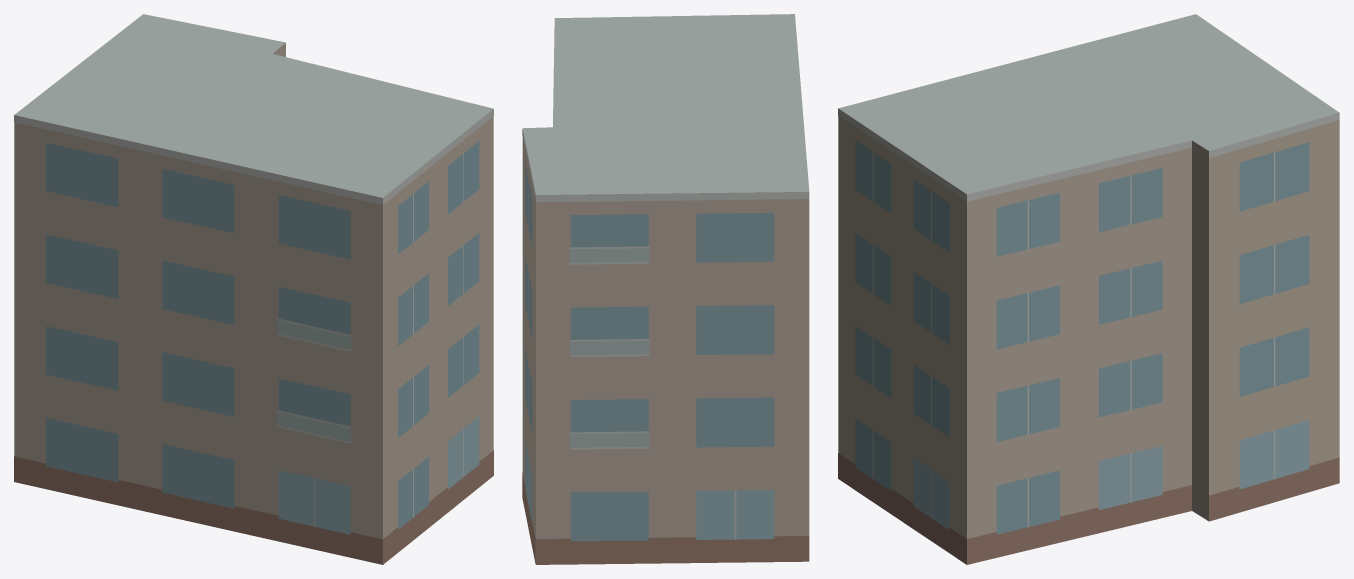
The model's file is survey-upis-32681429.glb.
The picture shows the model from 3 angles, left to right: view 1: azimuth 30°, elevation 25°; view 2: azimuth 150°, elevation 25°; view 3: azimuth 270°, elevation 25°; orthographic projection.
Visible parts, largest first — view 1: survey-upis-32681429.tmp; view 2: survey-upis-32681429.tmp; view 3: survey-upis-32681429.tmp.
Part boxes in pixels (<box>): survey-upis-32681429.tmp: <box>14,14,493,564</box>; survey-upis-32681429.tmp: <box>522,14,809,564</box>; survey-upis-32681429.tmp: <box>838,14,1339,564</box>.
Bounding box in the file's own units: 13.17 × 12.6 × 15.47.
